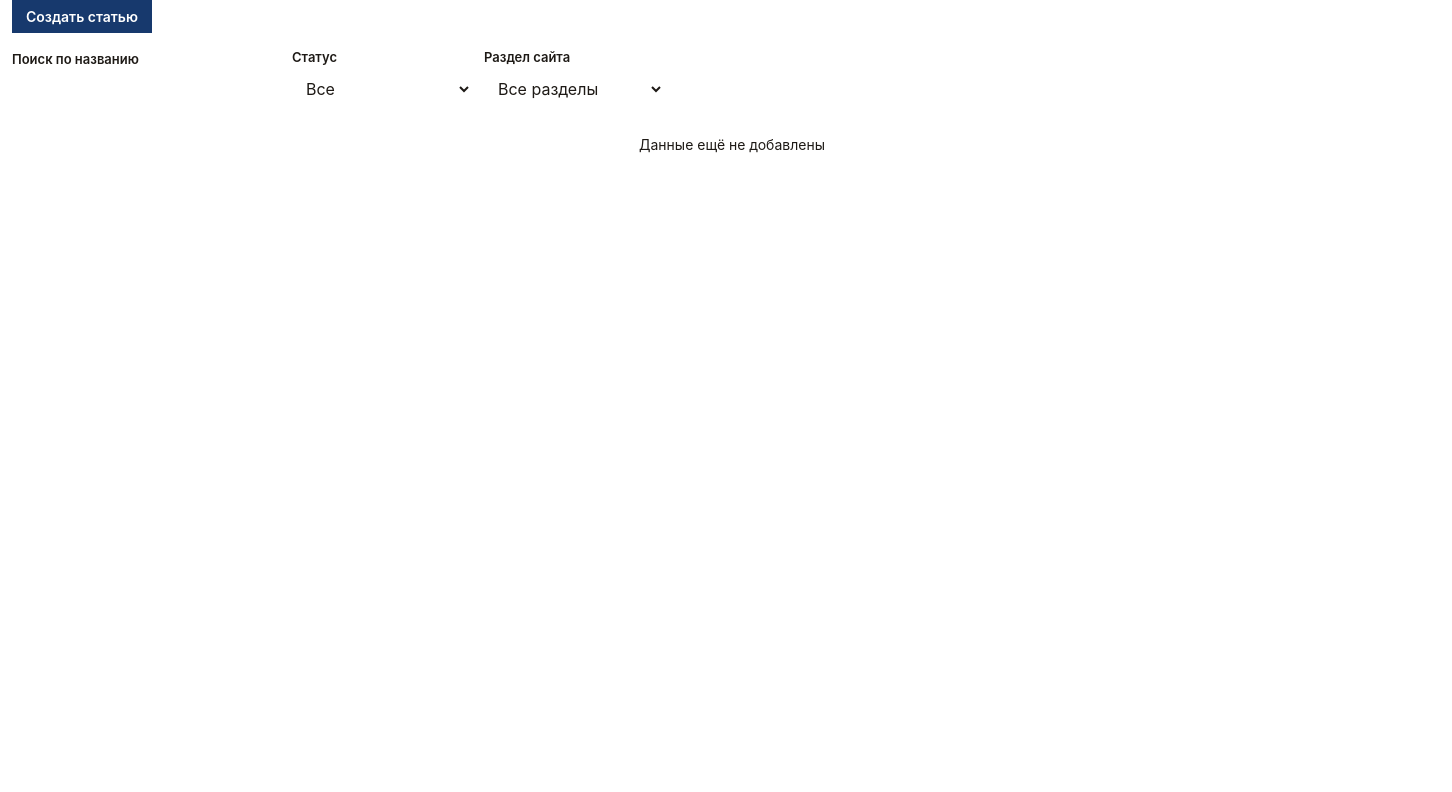
Test case: создание статьи: связей ещё не существует › редактора связей нет, вместо него объяснение
This screenshot has width=1452, height=792.
Step 1. Click the button "Создать статью" → (82, 16), box [12, 0, 152, 33]
(page scrolled)
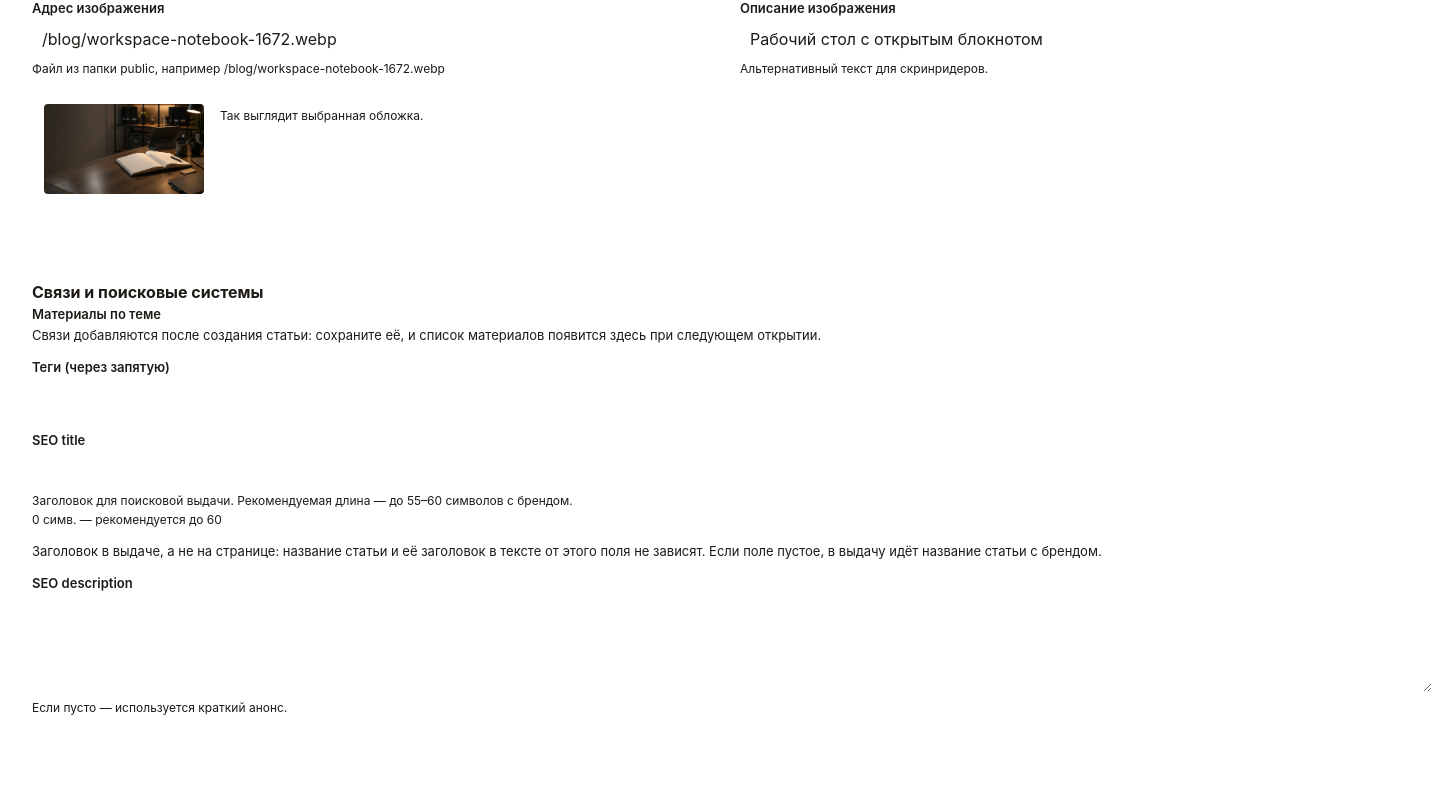
expect the text "Связи добавляются после создания статьи" is shown: met, box [32, 327, 821, 343]
